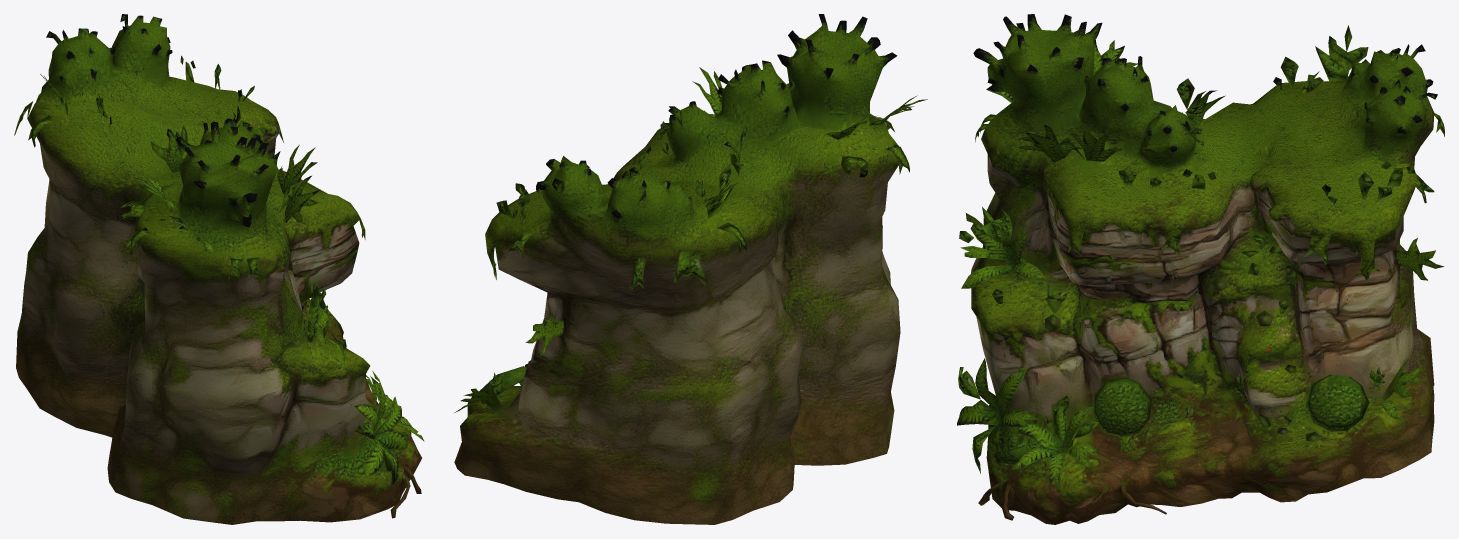
The model's file is roadside_cliff_outcrop.glb.
The picture shows the model from 3 angles, left to right: view 1: azimuth 30°, elevation 25°; view 2: azimuth 150°, elevation 25°; view 3: azimuth 270°, elevation 25°; orthographic projection. The views are drawn at different scales.
Visible parts, largest first — view 1: tripo_node_a73c933b-c0ab-4970-8de5-178b507e867a; view 2: tripo_node_a73c933b-c0ab-4970-8de5-178b507e867a; view 3: tripo_node_a73c933b-c0ab-4970-8de5-178b507e867a.
Part boxes in pixels (x1,y1,x2,y2): tripo_node_a73c933b-c0ab-4970-8de5-178b507e867a: (14, 14, 424, 524); tripo_node_a73c933b-c0ab-4970-8de5-178b507e867a: (454, 14, 927, 524); tripo_node_a73c933b-c0ab-4970-8de5-178b507e867a: (957, 14, 1444, 524).
Bounding box in the file's own units: 0.7676 × 0.9395 × 0.998.
1 material, 1 textured.
